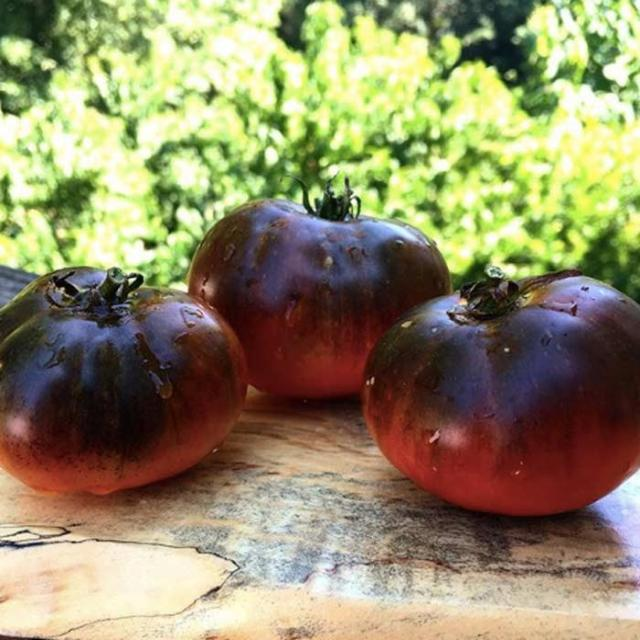overripe tomato: (0, 118, 640, 544)
